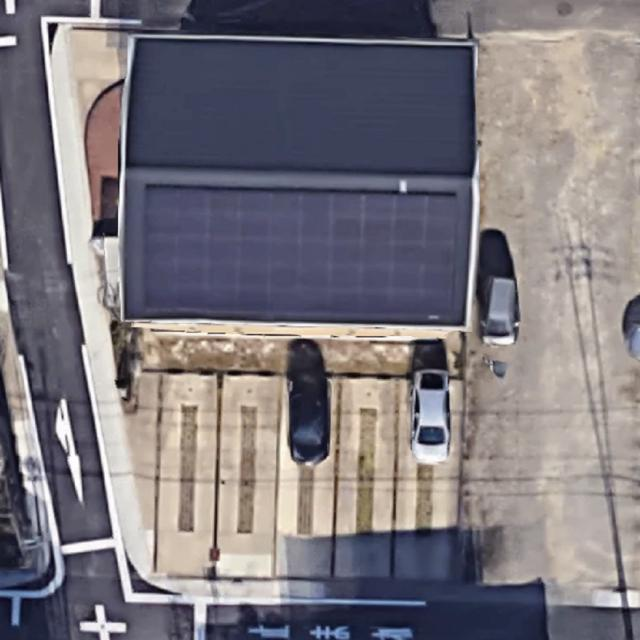Batiment: (123, 35, 477, 328)
